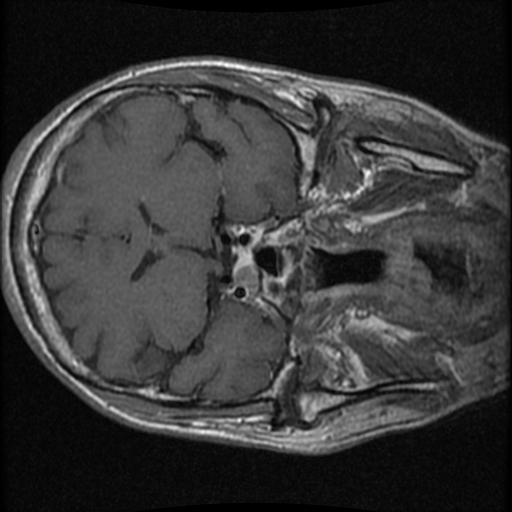pituitary tumour: (232, 248, 257, 287)
